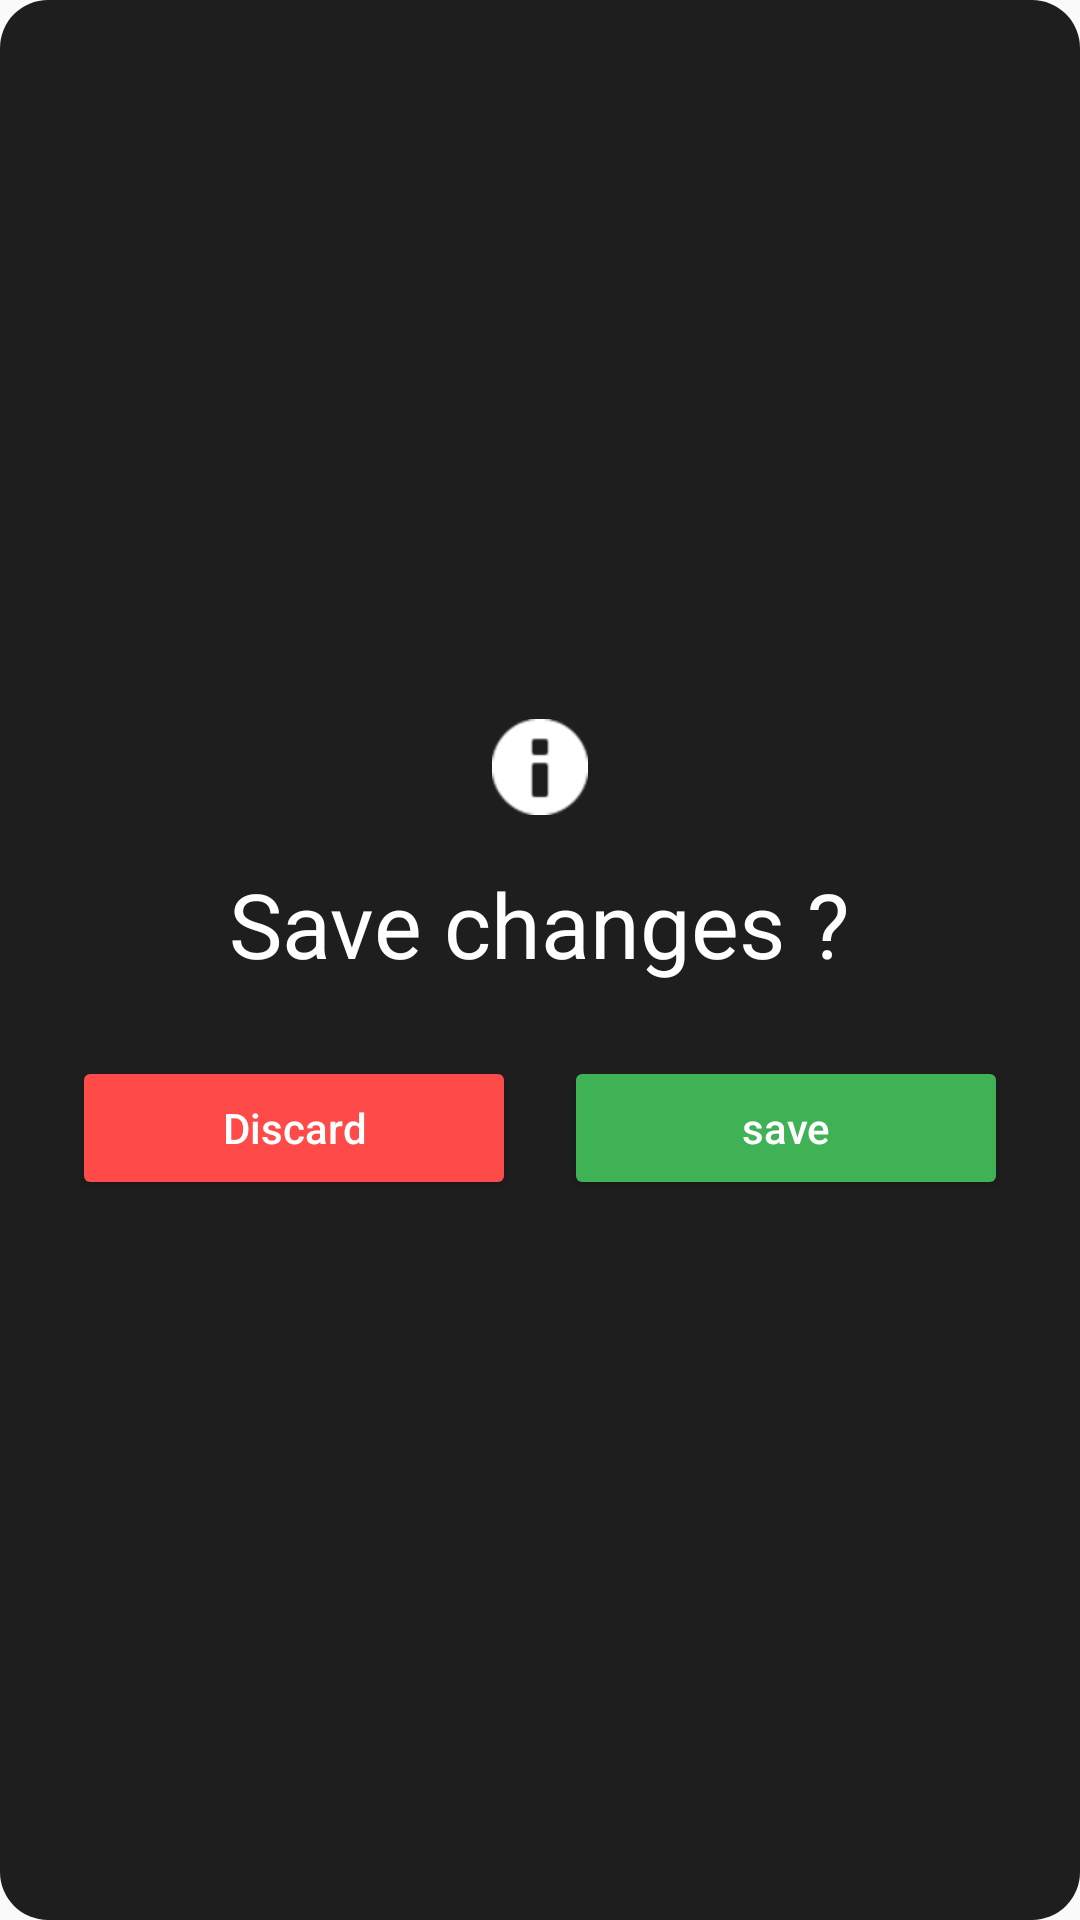

Named icons in this screenshot (1080 x 1920) and their centers, [x,y]:
Info Icon: [540,767]
